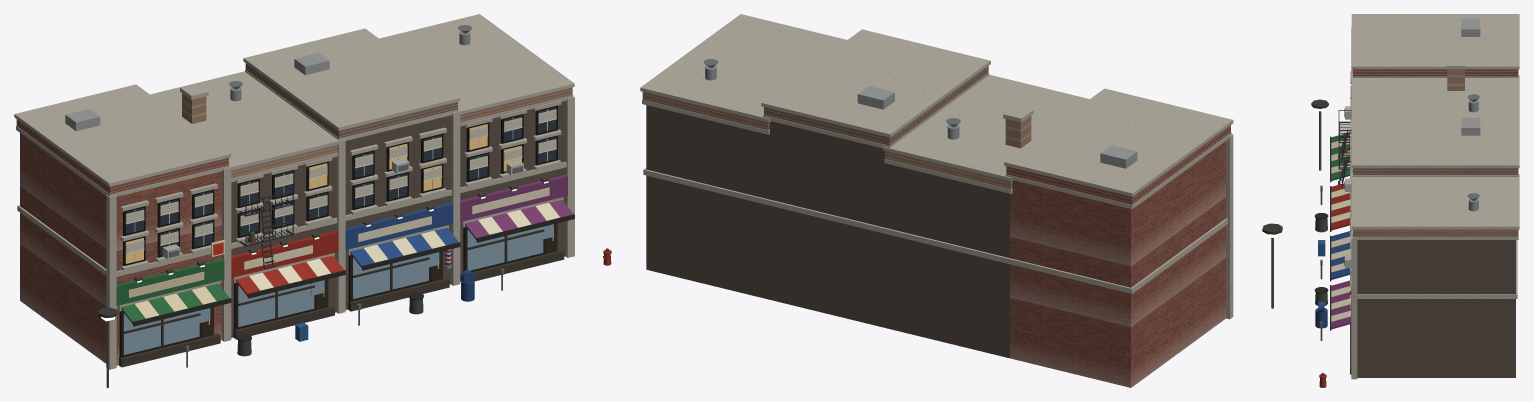
Rendered from jersey_shops.glb.
3 views of the same model, side by side, from view 1: azimuth 30°, elevation 25°; view 2: azimuth 150°, elevation 25°; view 3: azimuth 270°, elevation 25° (orthographic). The views are drawn at different scales.
Bounding box in the file's own units: 35.85 × 13.46 × 14.25.
10 materials, 10 textured.
